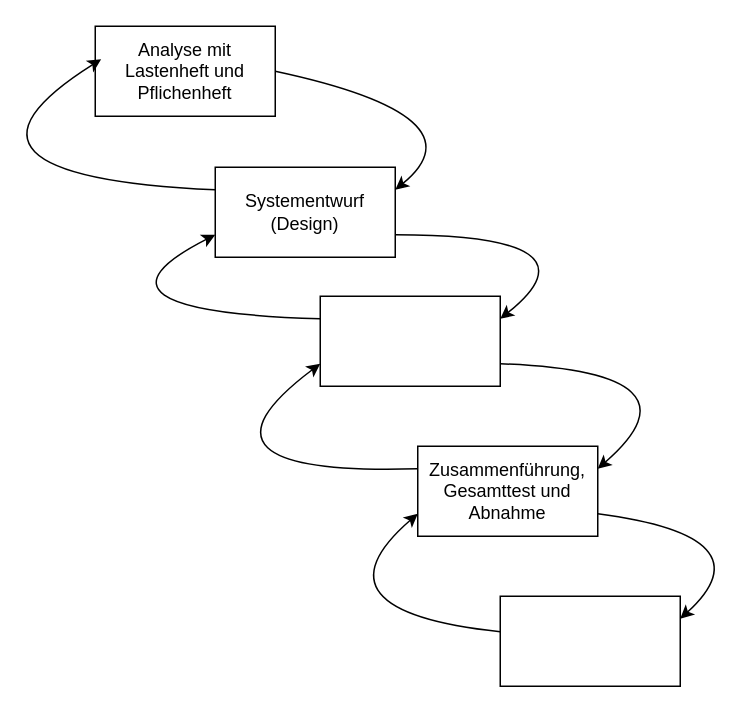
The diagram is 741 pixels wide and 713 high, and some of its shapes have lost their labels. Here are the shapes that lost their labels. From the top down, the centre of each, then its label:
At (409,340): "Implementierung und Test der Komponenten".
At (589,640): "Installation und Wartung".
